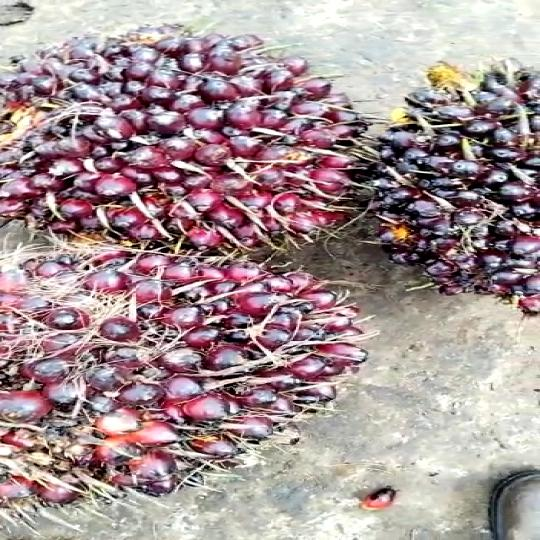kurang masak: (0, 249, 380, 509), (0, 25, 357, 264), (362, 47, 540, 316)
